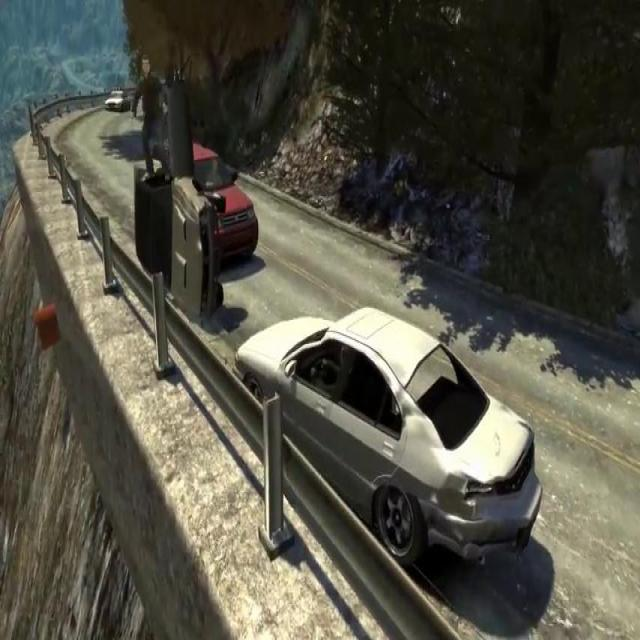accident: (130, 70, 230, 330)
